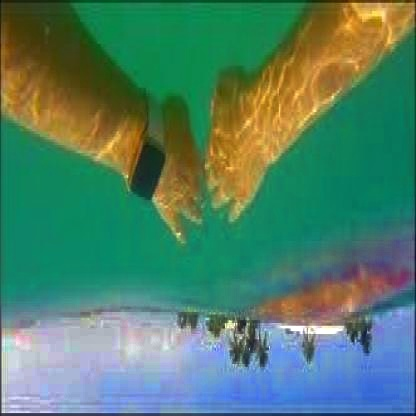electronics: (131, 85, 166, 213)
